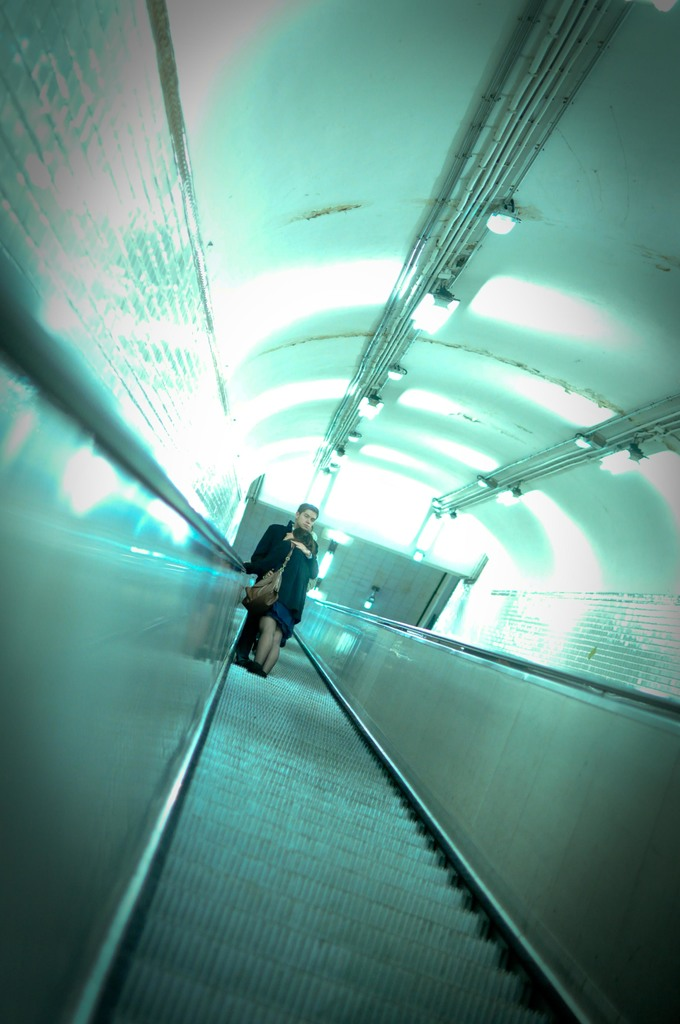Human-face: (302, 511, 314, 526)
